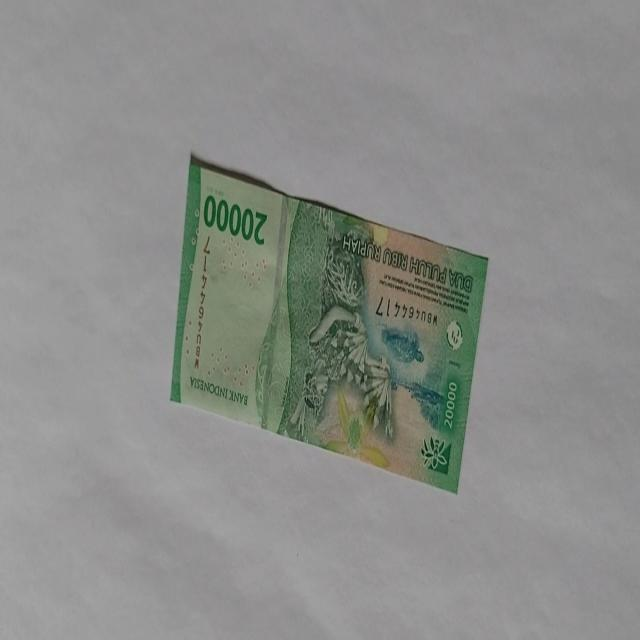dua puluh ribu rupiah: (169, 150, 489, 496), (254, 195, 396, 452)
